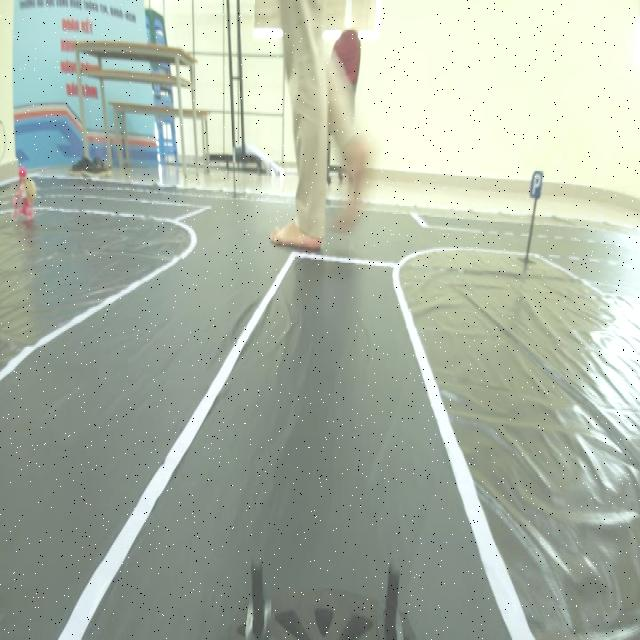parking: (526, 162, 547, 210)
